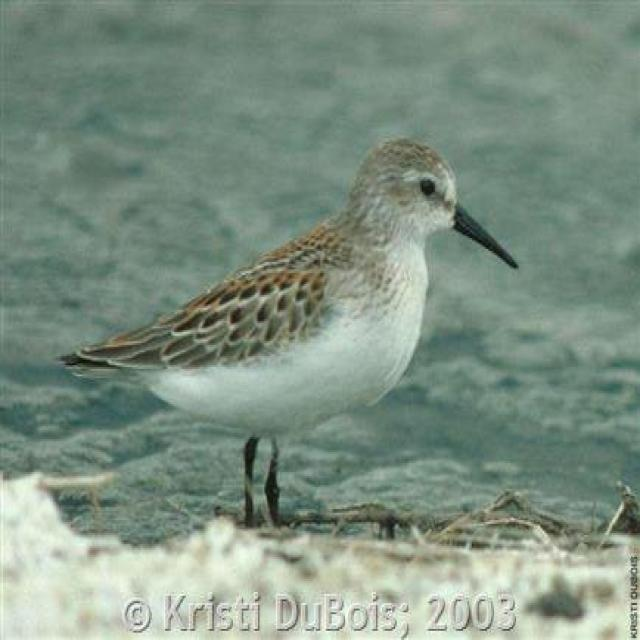Sandpiper: (66, 124, 522, 517)
